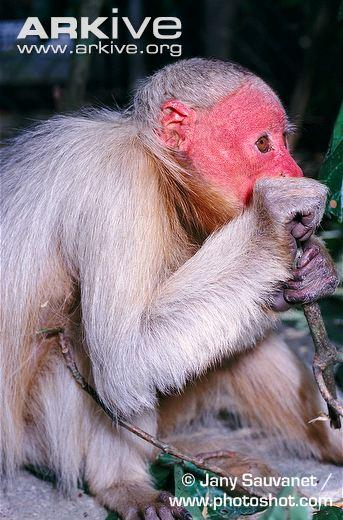monkey: (0, 57, 343, 520)
